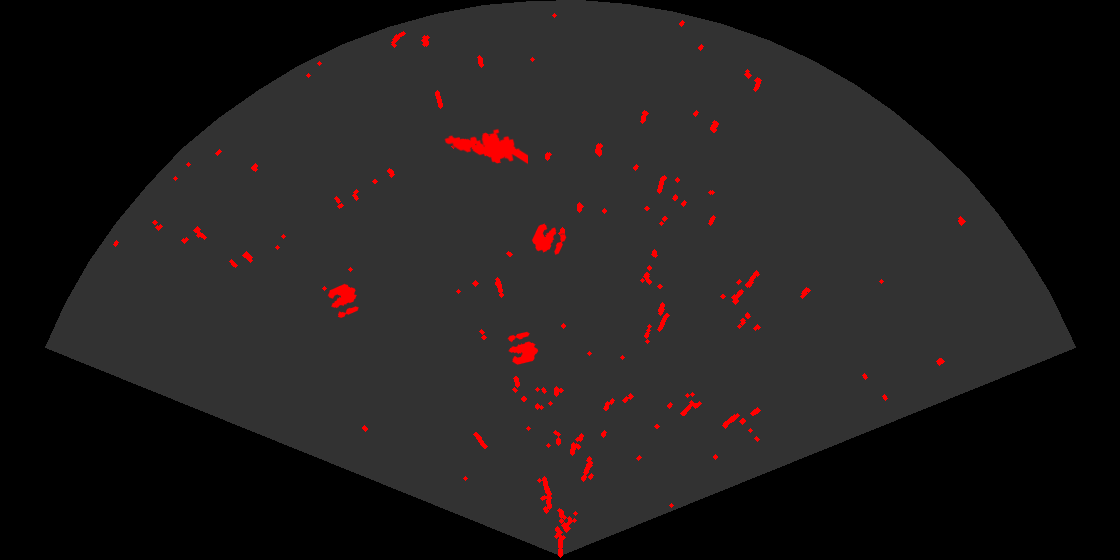ball: (326, 282, 360, 320), (530, 222, 568, 256), (506, 330, 540, 366)
frogman: (443, 127, 528, 166)
